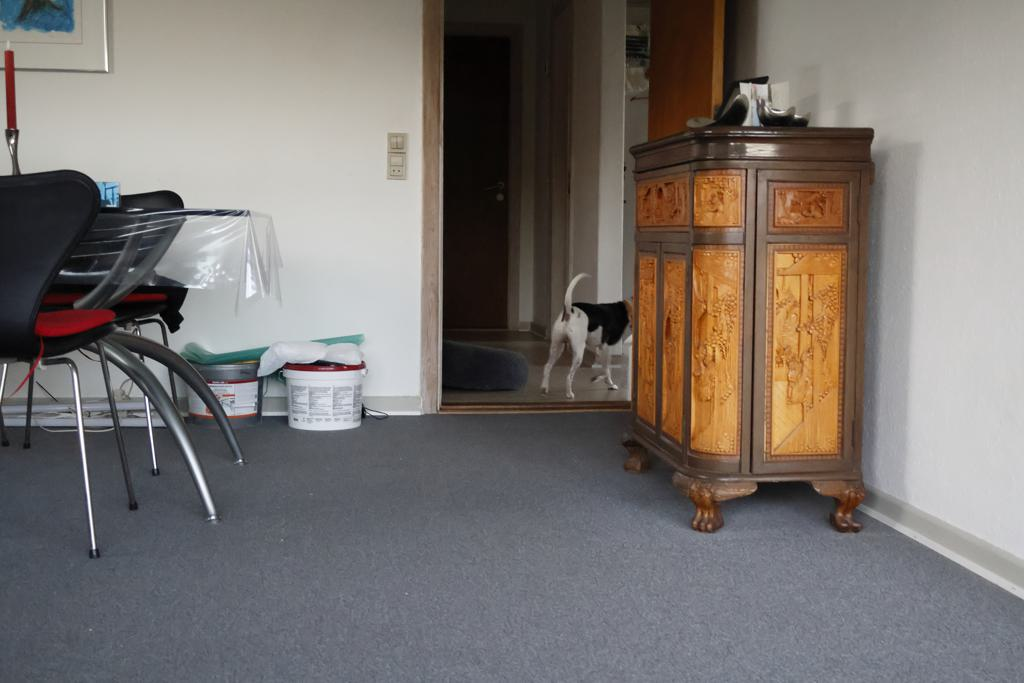Dog: (534, 260, 640, 404)
